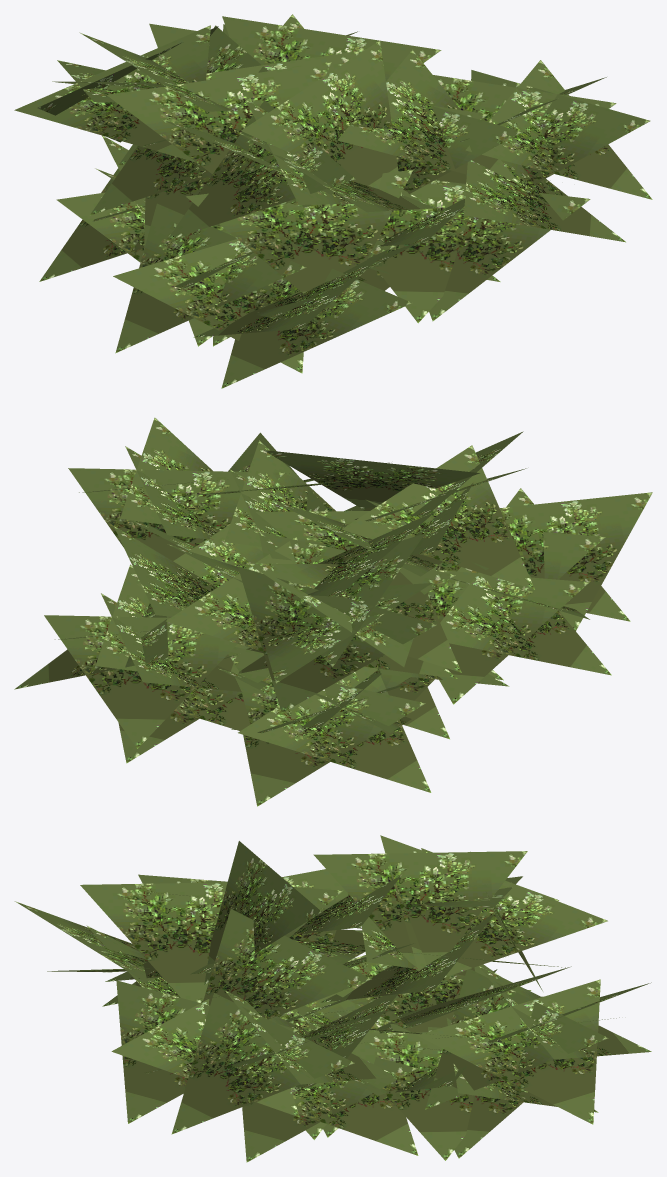
File: tree_fig_top_b.dae
3 views of the same model, one above another, from view 1: azimuth 30°, elevation 25°; view 2: azimuth 150°, elevation 25°; view 3: azimuth 270°, elevation 25° (orthographic). The views are drawn at different scales.
Parts seen in each view (by area): view 1: canopy163-Pivot; view 2: canopy163-Pivot; view 3: canopy163-Pivot.
Boxes of the visible parts, box(x1,y1,x2,y2) form: canopy163-Pivot: box(14, 14, 652, 388); canopy163-Pivot: box(14, 417, 652, 806); canopy163-Pivot: box(14, 835, 651, 1162).
Bounding box in the file's own units: 18.46 × 20.72 × 7.92.
